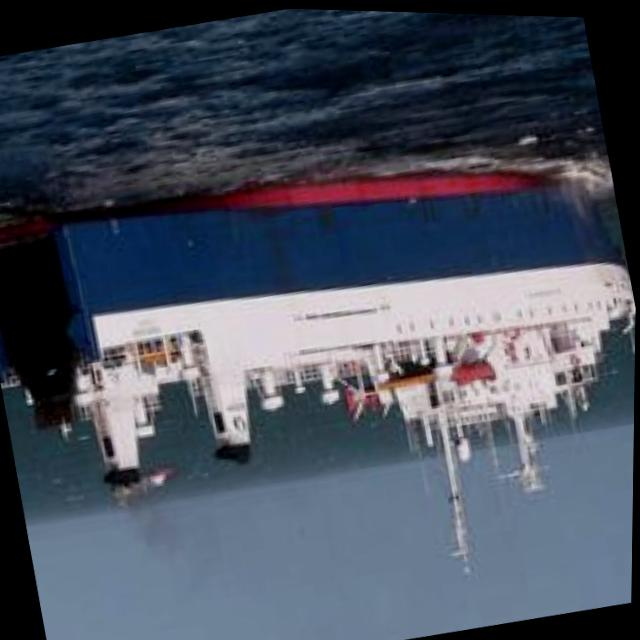ship2: (0, 162, 637, 559)
